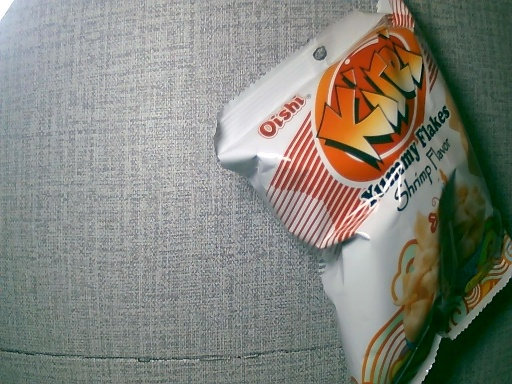plastic: (205, 1, 512, 384)
